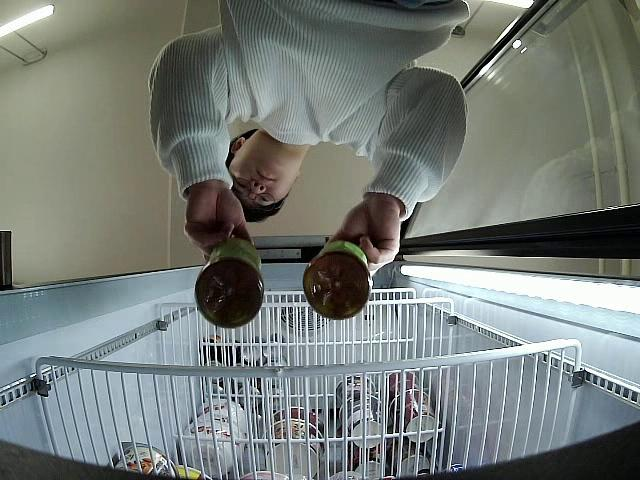00_hand: (326, 199, 400, 275), (184, 192, 257, 259)
19_17cha: (193, 239, 263, 328), (303, 241, 373, 320)
